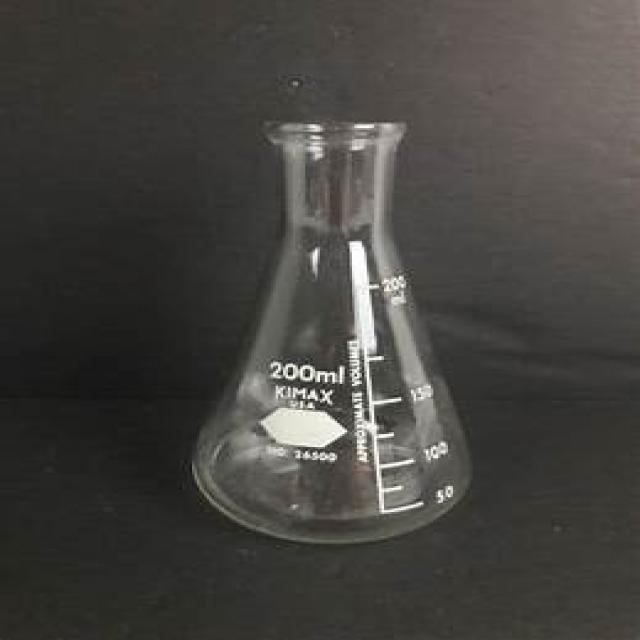Titrarion: (187, 105, 470, 545)
